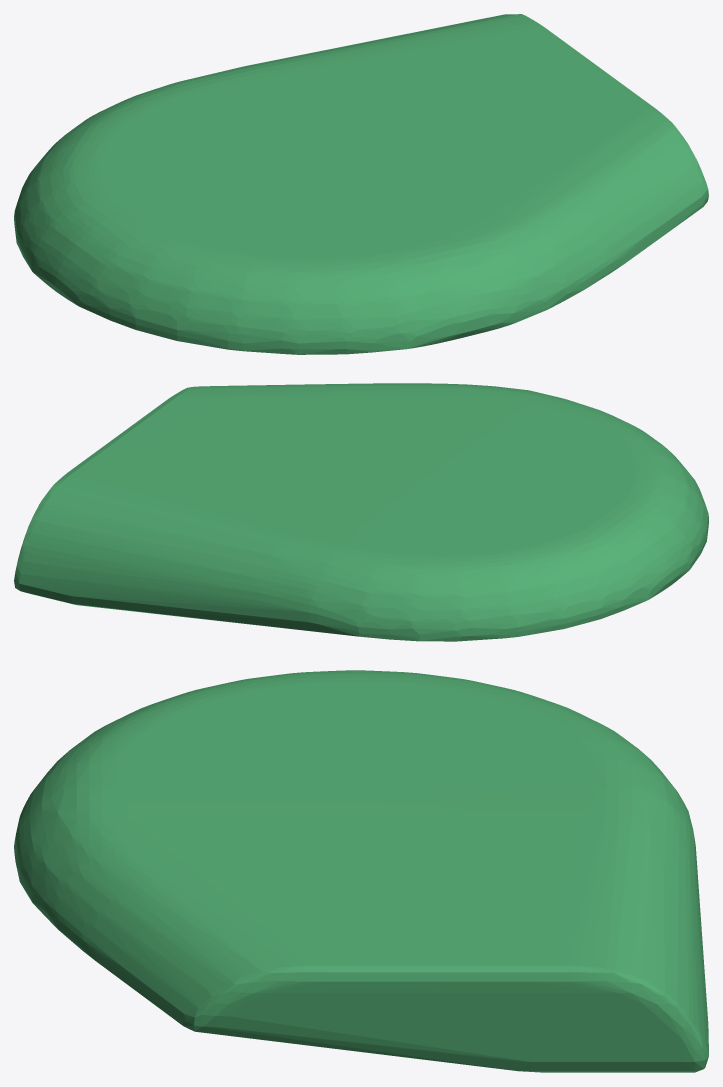
The model's file is left_elbow_link_part_3.obj.
The picture shows the model from 3 angles, top to bottom: view 1: azimuth 30°, elevation 25°; view 2: azimuth 150°, elevation 25°; view 3: azimuth 270°, elevation 25°; orthographic projection. The views are drawn at different scales.
Bounding box in the file's own units: 0.0901 × 0.0147 × 0.0817.
